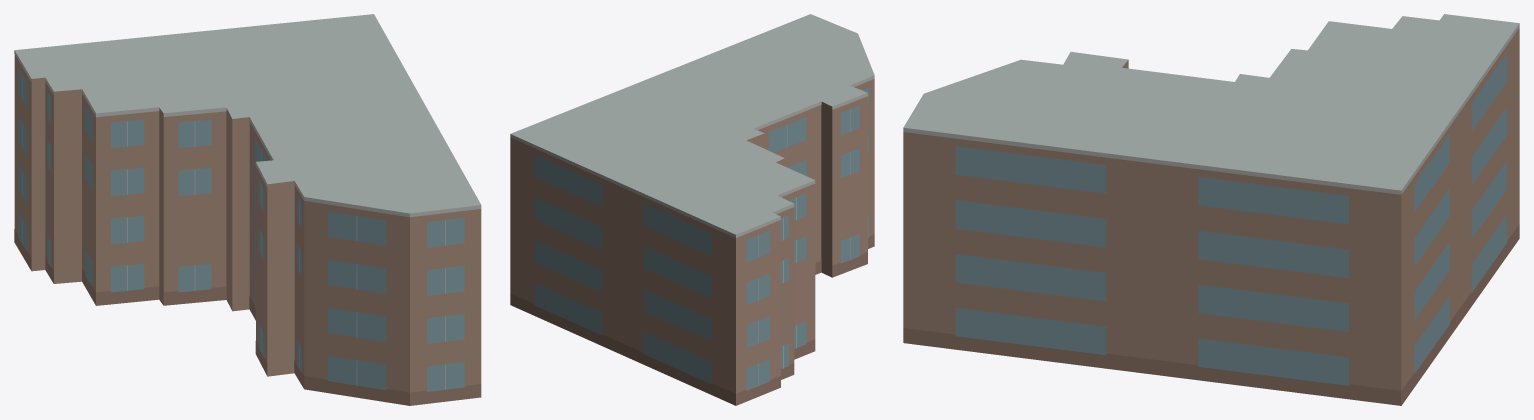
File: survey-upis-32733518.glb
The picture shows the model from 3 angles, left to right: view 1: azimuth 30°, elevation 25°; view 2: azimuth 150°, elevation 25°; view 3: azimuth 270°, elevation 25°; orthographic projection. The views are drawn at different scales.
Parts seen in each view (by area): view 1: survey-upis-32733518.tmp; view 2: survey-upis-32733518.tmp; view 3: survey-upis-32733518.tmp.
Part boxes in pixels (bbox=[...]): survey-upis-32733518.tmp: bbox=[14, 14, 481, 405]; survey-upis-32733518.tmp: bbox=[510, 14, 874, 405]; survey-upis-32733518.tmp: bbox=[903, 14, 1519, 405].
Bounding box in the file's own units: 21.82 × 12.4 × 32.18.
